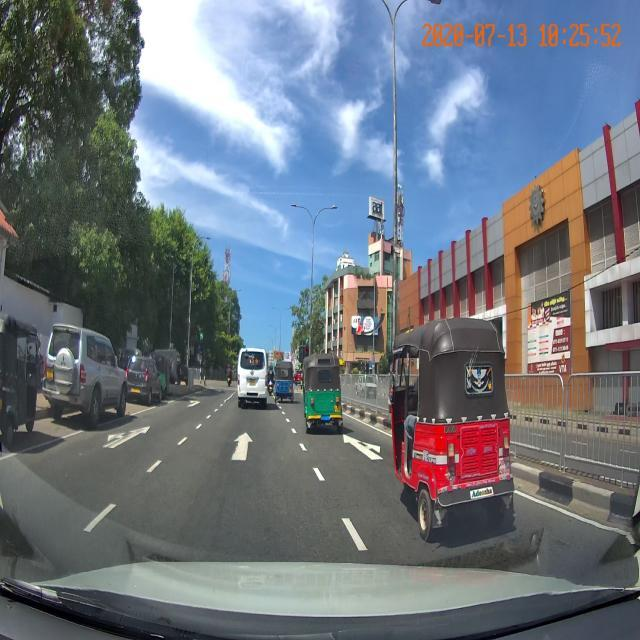forward: (130, 425, 337, 496)
